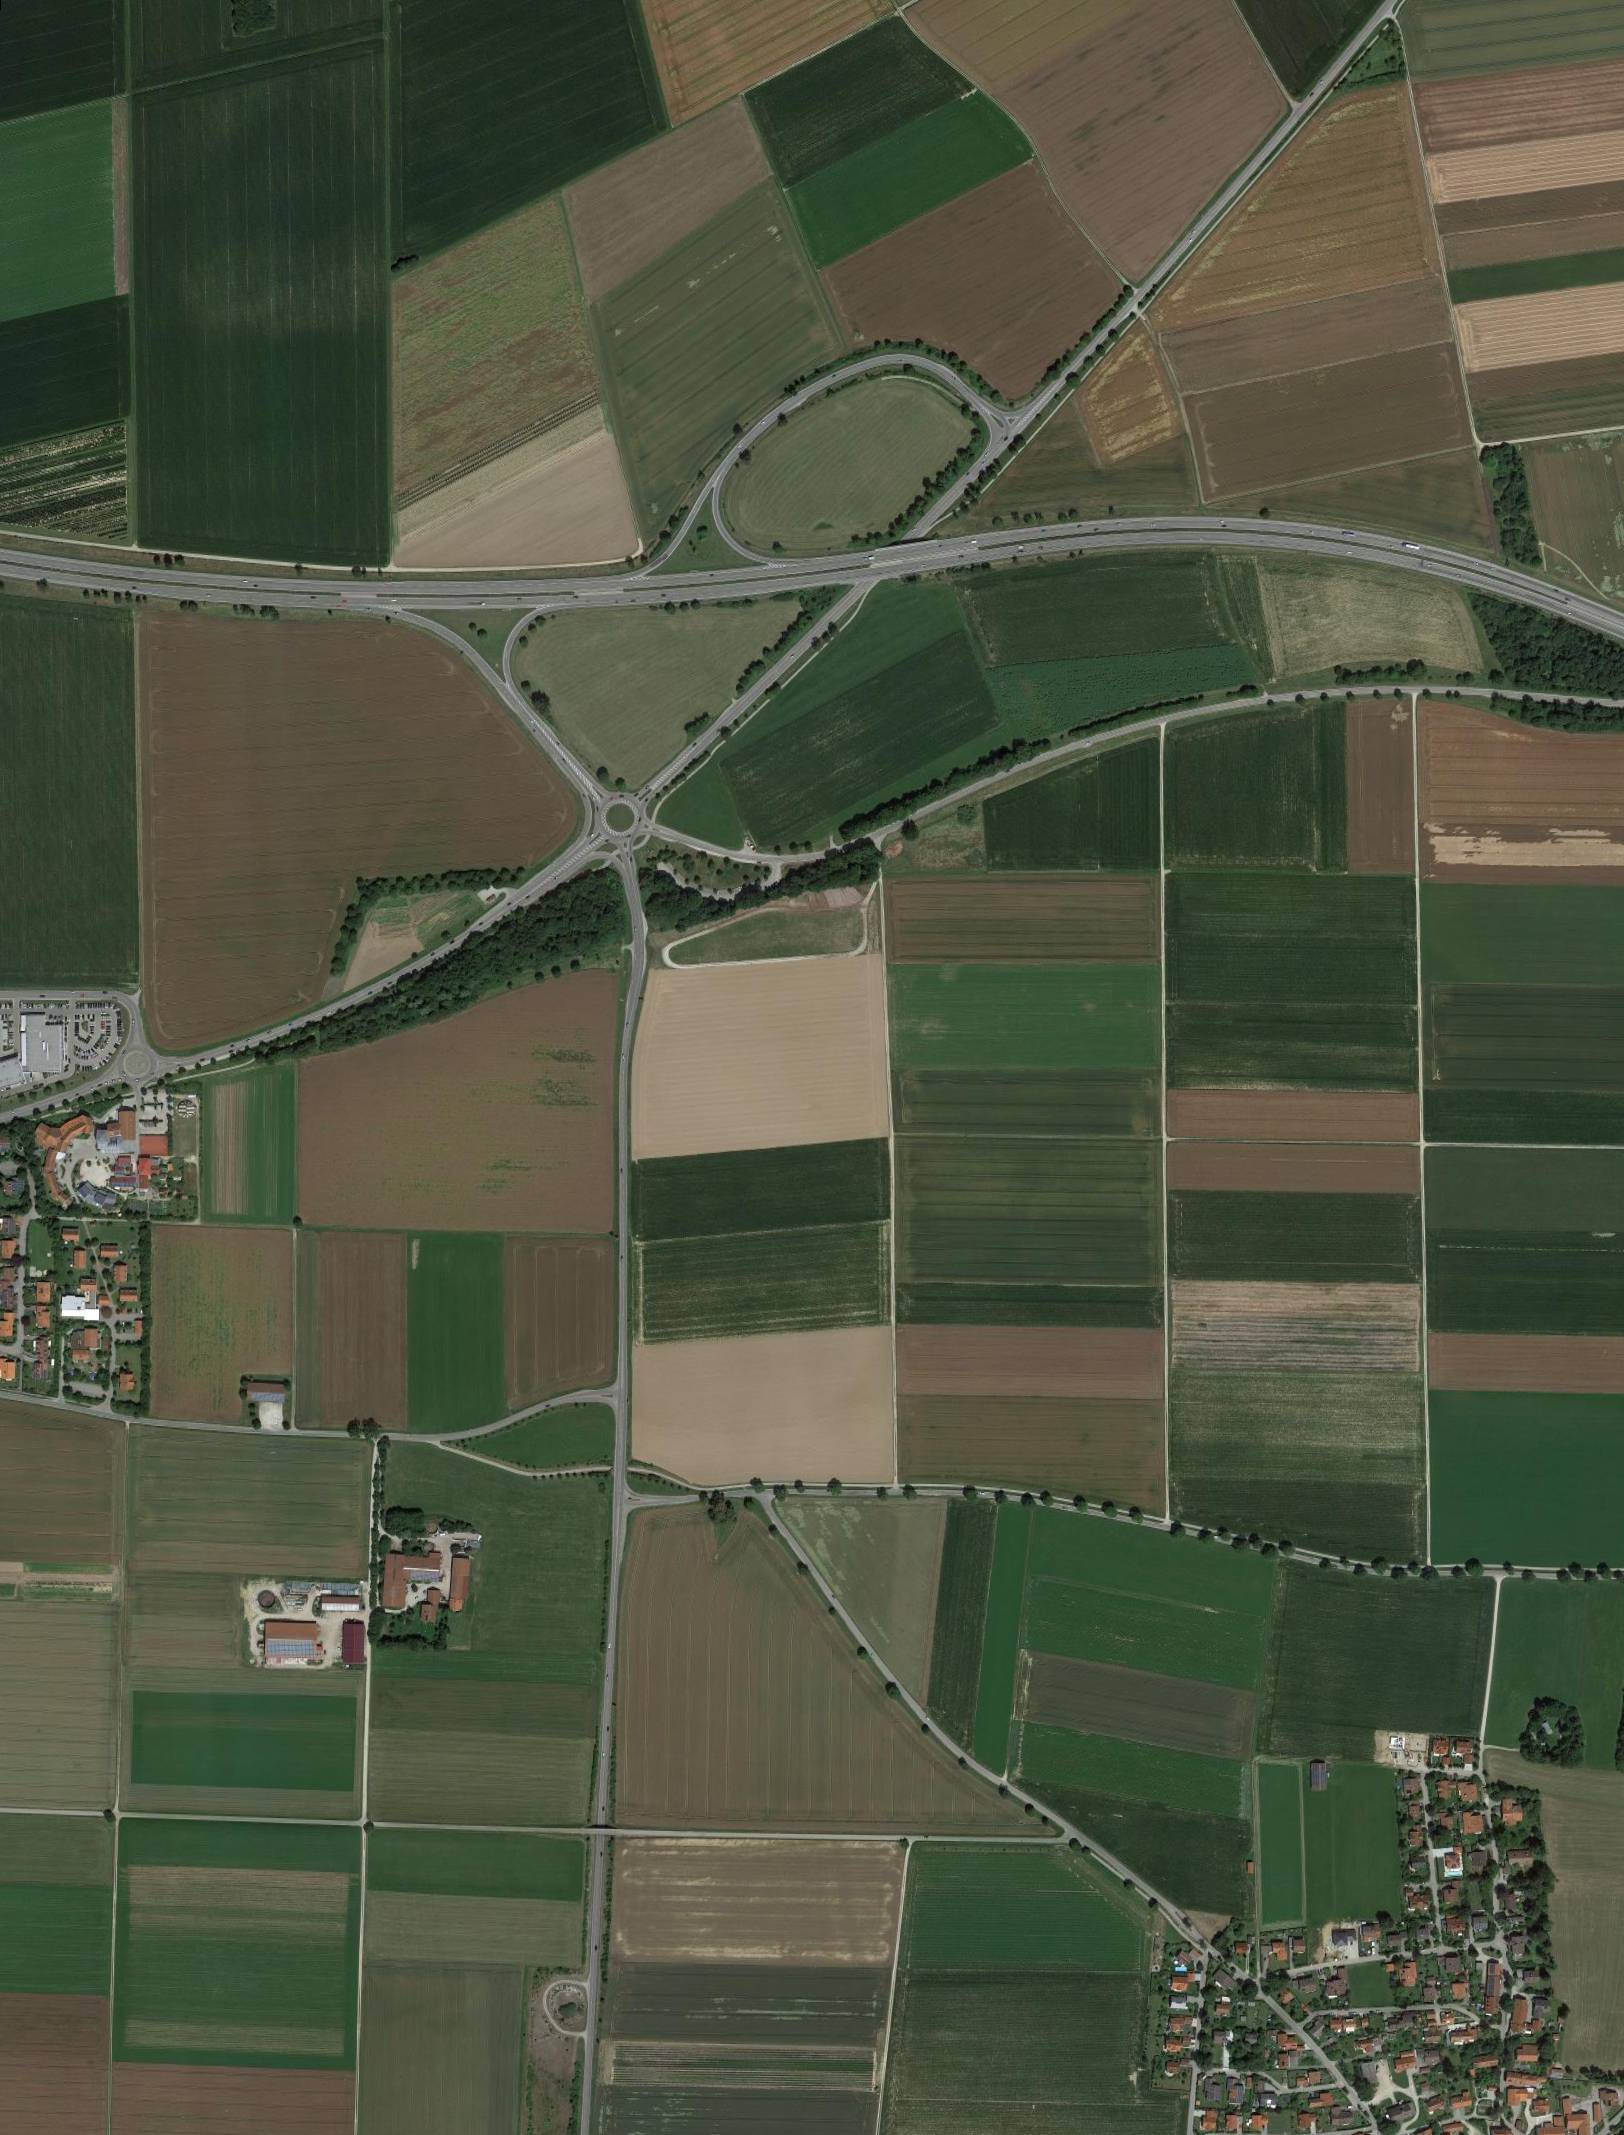roundabout: (112, 1043, 160, 1086), (601, 793, 643, 837)
